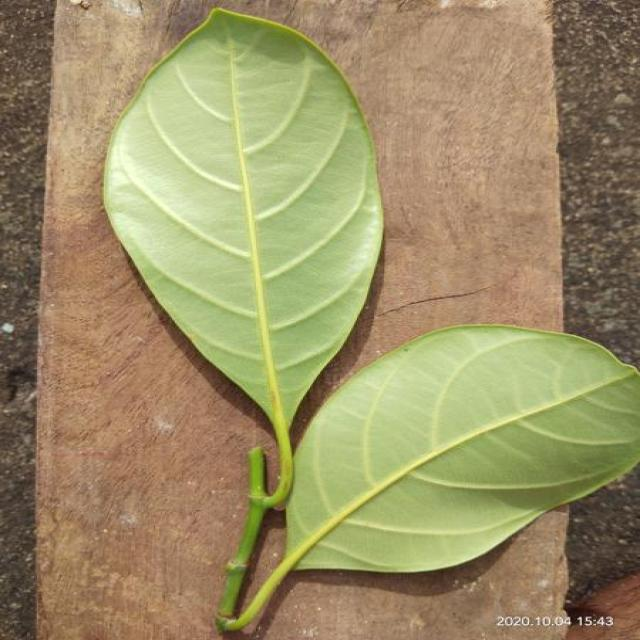Jackfruit: (103, 9, 638, 631)
